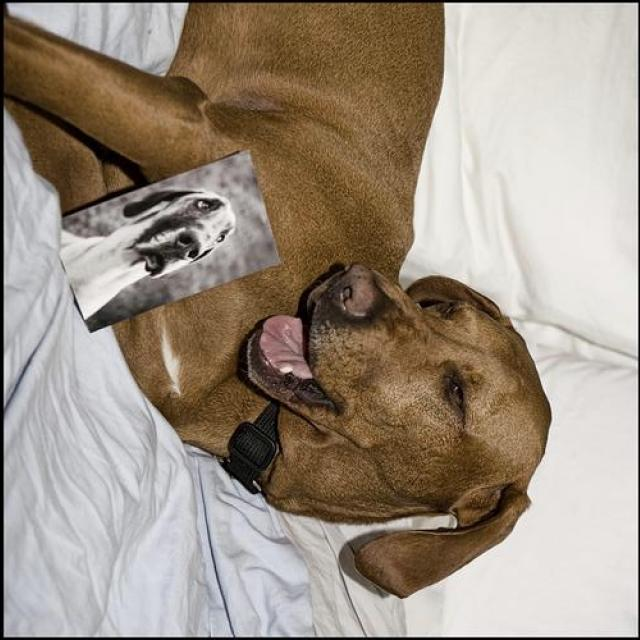rhodesian_ridgeback: (2, 4, 556, 602)
